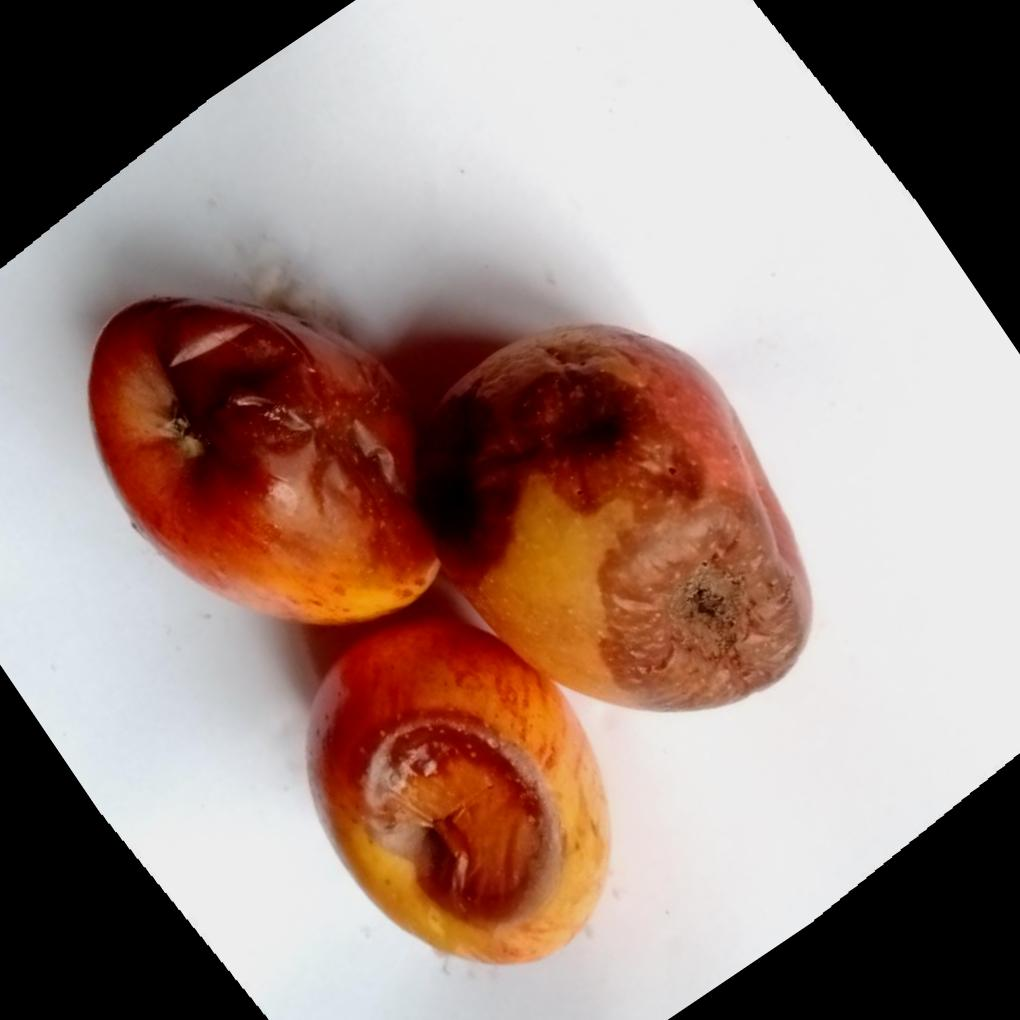FreshOrange: (84, 299, 773, 964)
